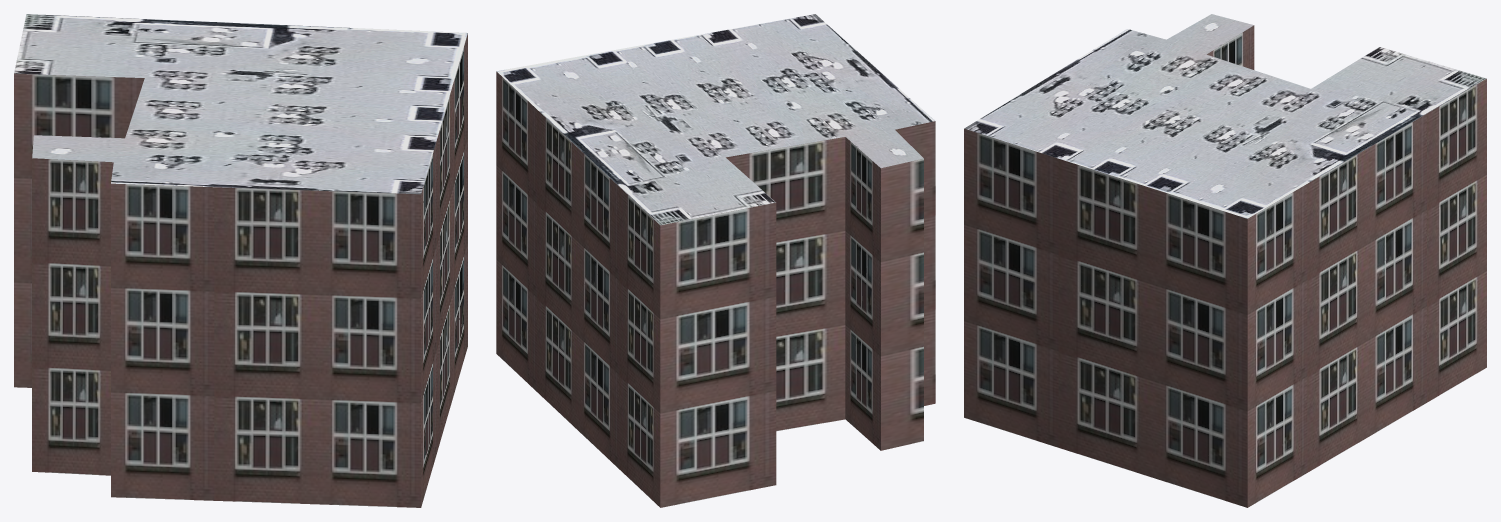
Rendered from ResTex__2219.fbx.
The picture shows the model from 3 angles, left to right: view 1: azimuth 30°, elevation 25°; view 2: azimuth 150°, elevation 25°; view 3: azimuth 270°, elevation 25°; orthographic projection. The views are drawn at different scales.
Parts seen in each view (by area): view 1: CityEngineMaterial_12_m, CityEngineMaterial_2_m; view 2: CityEngineMaterial_12_m, CityEngineMaterial_2_m; view 3: CityEngineMaterial_12_m, CityEngineMaterial_2_m.
Part boxes in pixels (<box>): CityEngineMaterial_12_m: <box>14,33,467,507</box>; CityEngineMaterial_2_m: <box>14,14,467,194</box>; CityEngineMaterial_12_m: <box>496,71,935,507</box>; CityEngineMaterial_2_m: <box>497,14,934,225</box>; CityEngineMaterial_12_m: <box>964,25,1486,507</box>; CityEngineMaterial_2_m: <box>964,14,1486,218</box>.
Bounding box in the file's own units: 13.67 × 9 × 14.74.
2 materials, 2 textured.
